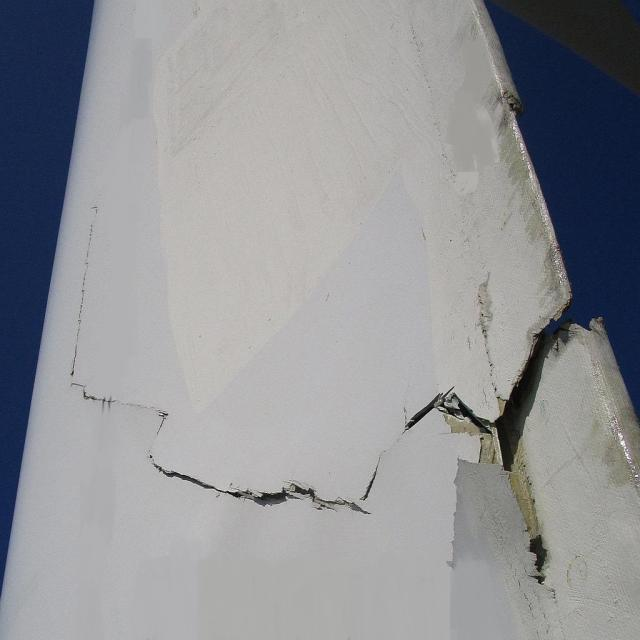crack: (401, 291, 608, 578), (64, 381, 380, 517), (65, 208, 104, 377)
